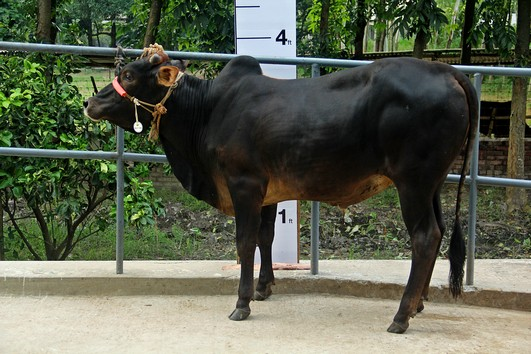cow: (73, 45, 489, 334)
